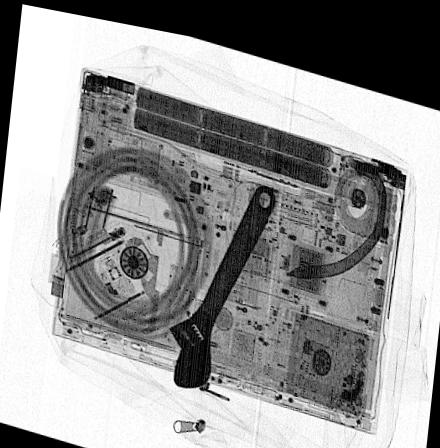Wrench: (166, 173, 275, 383)
